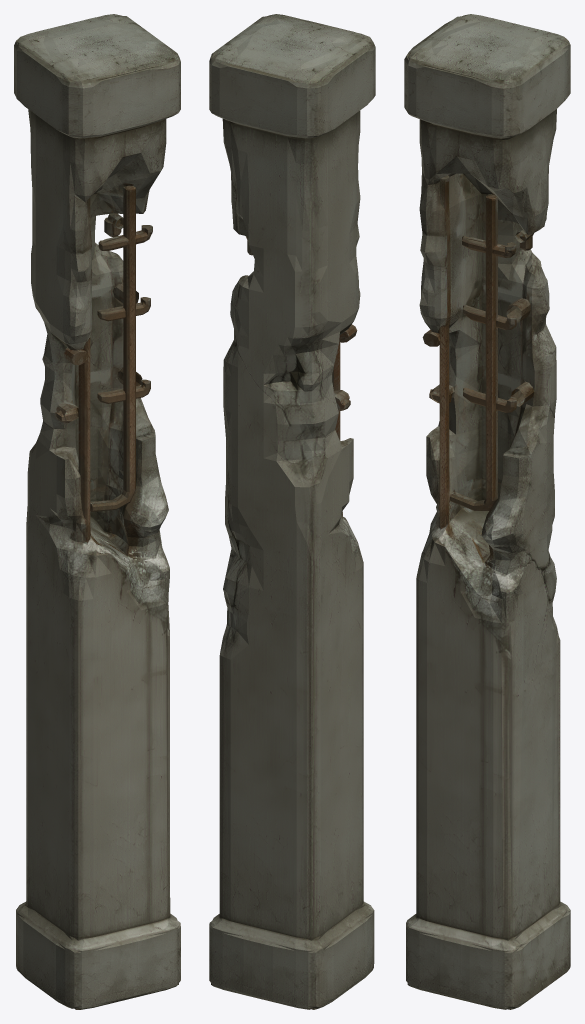
Rendered from column2.glb.
The picture shows the model from 3 angles, left to right: view 1: azimuth 30°, elevation 25°; view 2: azimuth 150°, elevation 25°; view 3: azimuth 330°, elevation 25°; orthographic projection.
Size of the model in its own units: 0.2466 by 1.91 by 0.2466.
1 material, 1 textured.
